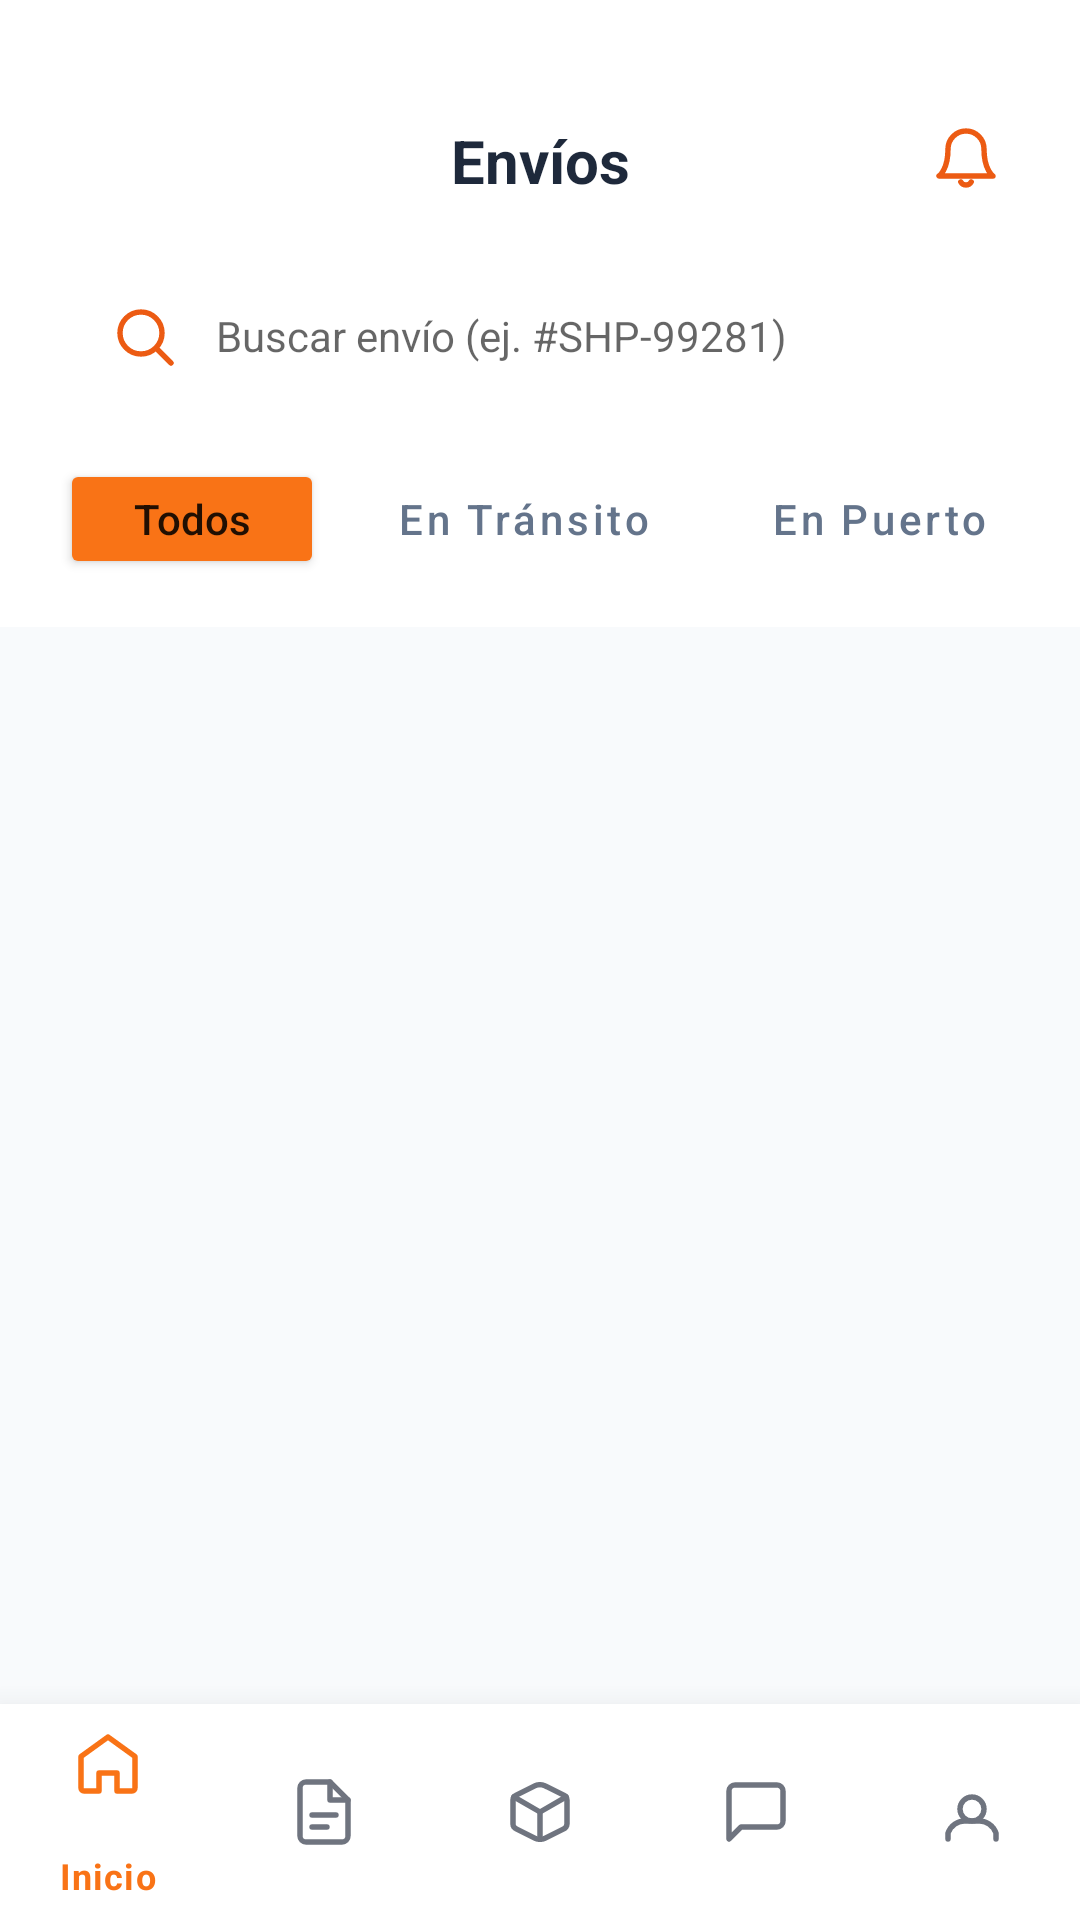

Locate icon controls on the screen. Image size 1080×1920, boxes as bbox(x1, y1, x2, y2).
bell: bbox(936, 128, 996, 188)
